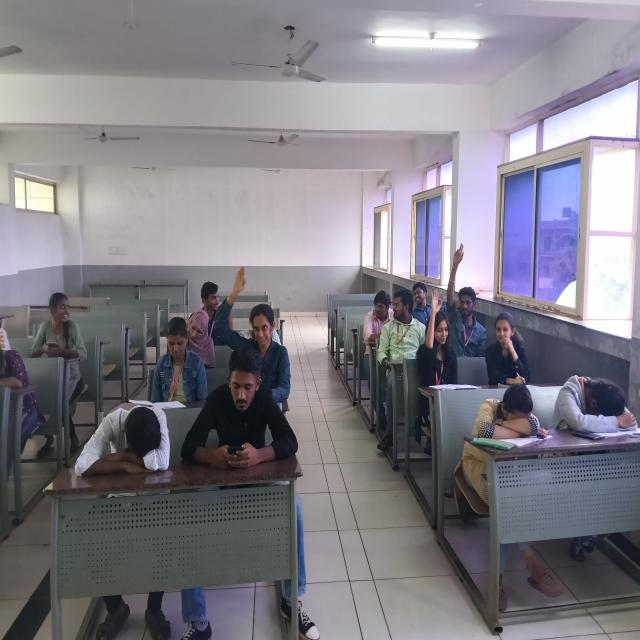Hand Rising: (220, 230, 320, 398), (433, 225, 502, 349), (405, 286, 472, 392)
Sleeping: (60, 376, 193, 498), (437, 349, 559, 475), (550, 319, 640, 468)
Using Phone: (188, 349, 313, 486), (16, 276, 104, 382)
